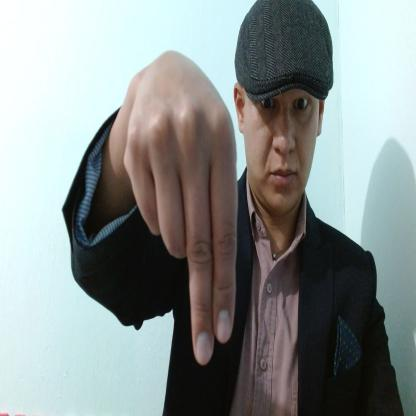N: (118, 50, 238, 366)
